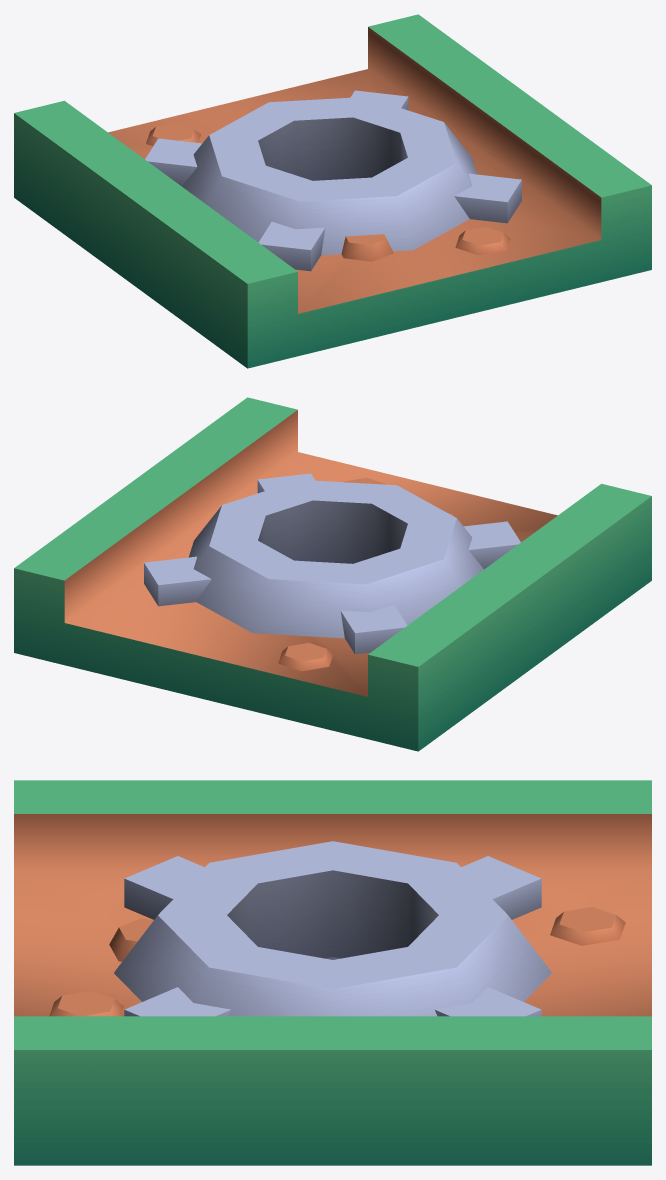
File: tile-spawn-round.gltf
The picture shows the model from 3 angles, top to bottom: view 1: azimuth 30°, elevation 25°; view 2: azimuth 150°, elevation 25°; view 3: azimuth 270°, elevation 25°; orthographic projection. The views are drawn at different scales.
Parts seen in each view (by area): view 1: tile-spawn-round; view 2: tile-spawn-round; view 3: tile-spawn-round.
Part boxes in pixels (left/top/right/bottom): tile-spawn-round: left=14, top=14, right=651, bottom=368; tile-spawn-round: left=14, top=397, right=651, bottom=751; tile-spawn-round: left=14, top=780, right=651, bottom=1165.
Bounding box in the file's own units: 1 × 0.2 × 1.
Materials: 1 (1 with a texture image).
